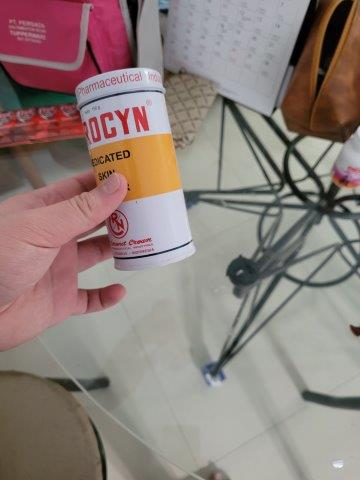kaleng: (73, 68, 197, 270)
